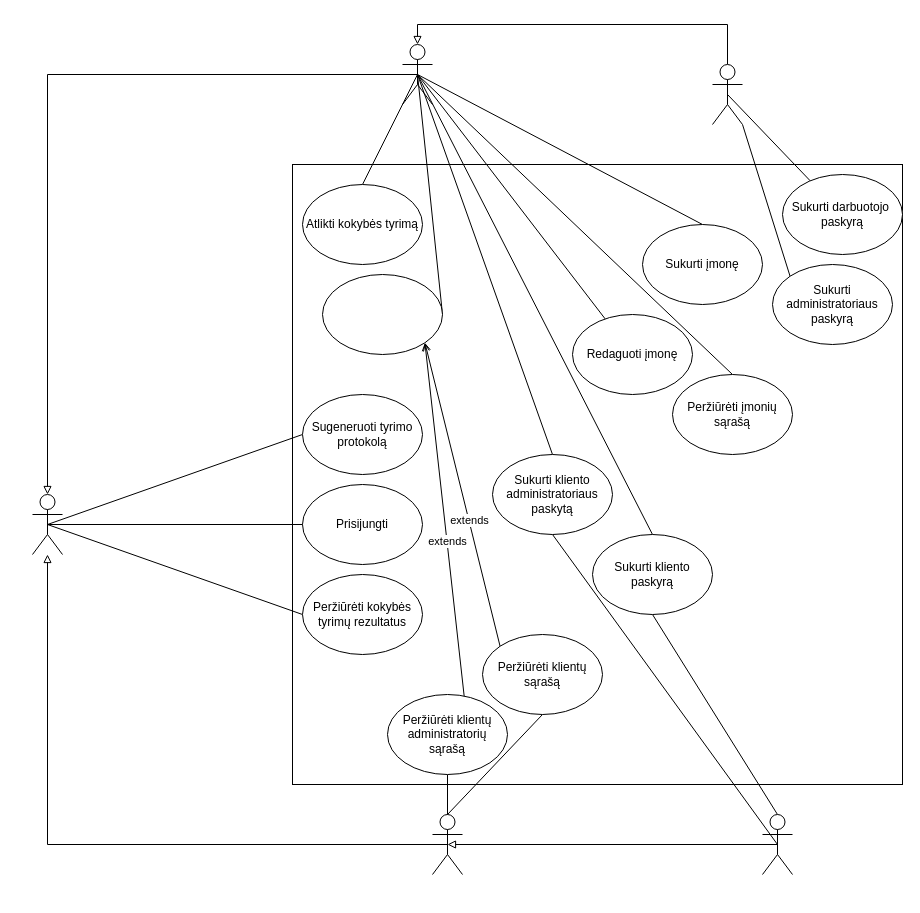
Image size: 920x913. Some labels were removed from this diagram. Here are the shapes that lost their labels. From the top down, the centre of each, then its label:
the point at 417,74: Darbuotojas
the point at 727,94: Administratorius
the point at 382,314: Peržiūrėti naudotojų sąrašą
the point at 47,524: Naudotojas
the point at 447,844: Klientas
the point at 777,844: Klientas administratorius
